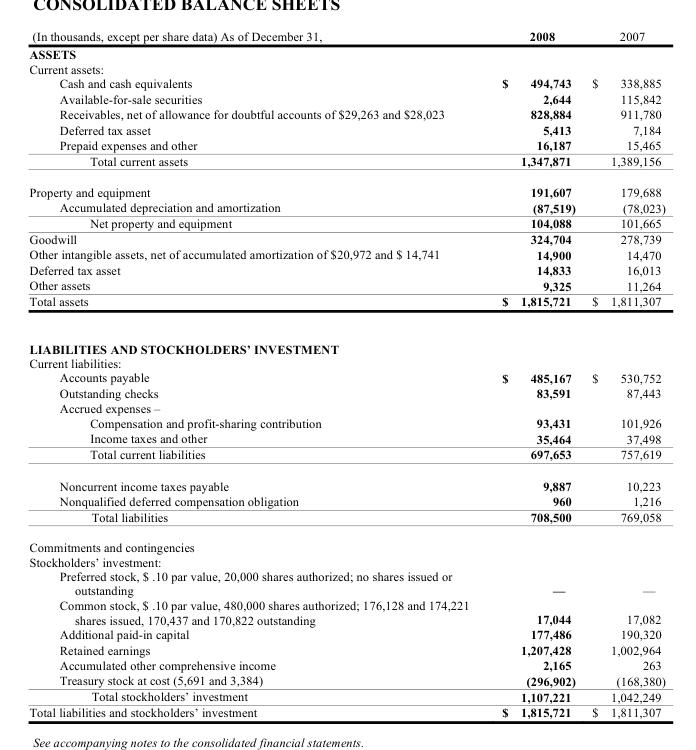table: (28, 28, 664, 718)
table column: (28, 28, 484, 718), (484, 28, 583, 718), (583, 28, 664, 718)
table column header: (28, 28, 664, 44)
table projected row header: (28, 324, 664, 355), (28, 531, 664, 554), (28, 44, 664, 61), (28, 355, 664, 370), (28, 400, 664, 415), (28, 61, 664, 75), (28, 554, 664, 568)
table row: (28, 293, 664, 324), (28, 324, 664, 355), (28, 568, 664, 597), (28, 597, 664, 626), (28, 152, 664, 176), (28, 469, 664, 493), (28, 176, 664, 199), (28, 446, 664, 469), (28, 508, 664, 531), (28, 531, 664, 554), (28, 44, 664, 61), (28, 28, 664, 44), (28, 90, 664, 106), (28, 121, 664, 137), (28, 199, 664, 215), (28, 215, 664, 231), (28, 246, 664, 262), (28, 277, 664, 293), (28, 430, 664, 446), (28, 641, 664, 657), (28, 672, 664, 688), (28, 688, 664, 704), (28, 75, 664, 90), (28, 106, 664, 121), (28, 137, 664, 152), (28, 231, 664, 246), (28, 262, 664, 277), (28, 355, 664, 370), (28, 370, 664, 385), (28, 385, 664, 400), (28, 400, 664, 415), (28, 415, 664, 430), (28, 493, 664, 508), (28, 626, 664, 641), (28, 657, 664, 672), (28, 61, 664, 75), (28, 554, 664, 568), (28, 704, 664, 718)
